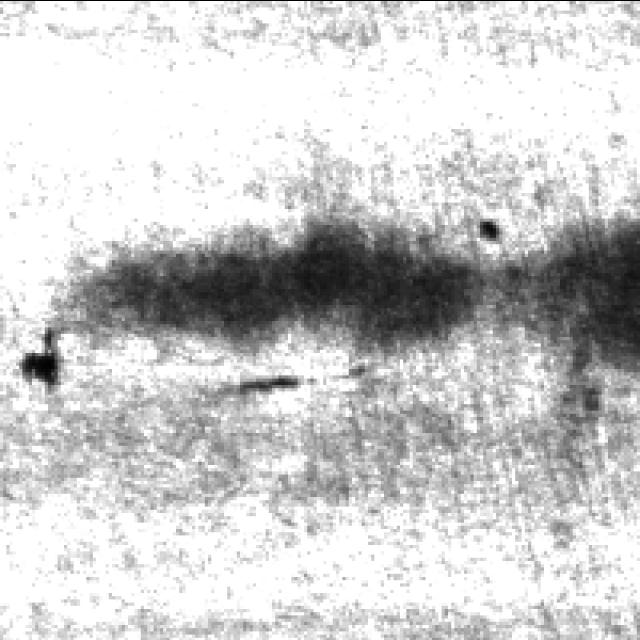patches: (80, 228, 460, 351), (507, 207, 640, 366), (26, 322, 66, 396), (473, 212, 502, 248)
